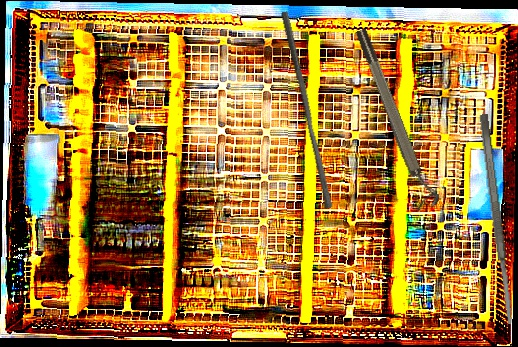Fixation Ring: (352, 24, 442, 212)
Pusher: (272, 10, 341, 210)
Spatula Surgical: (477, 113, 516, 325)
